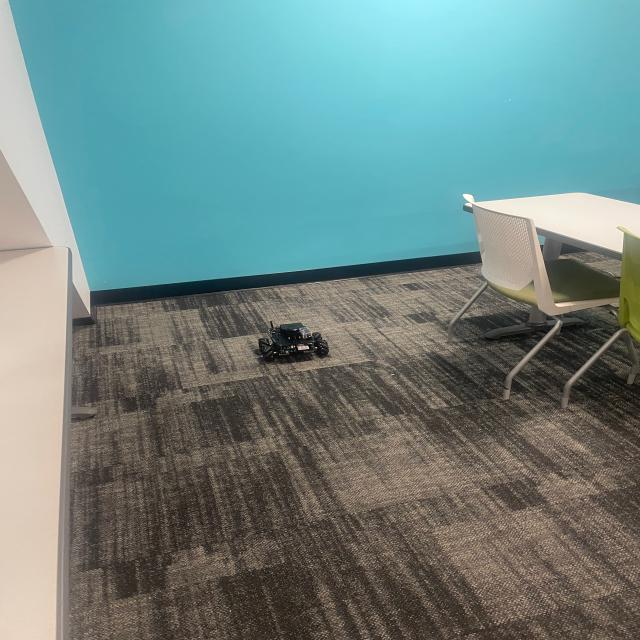ArduinoCar3: (252, 318, 330, 367)
